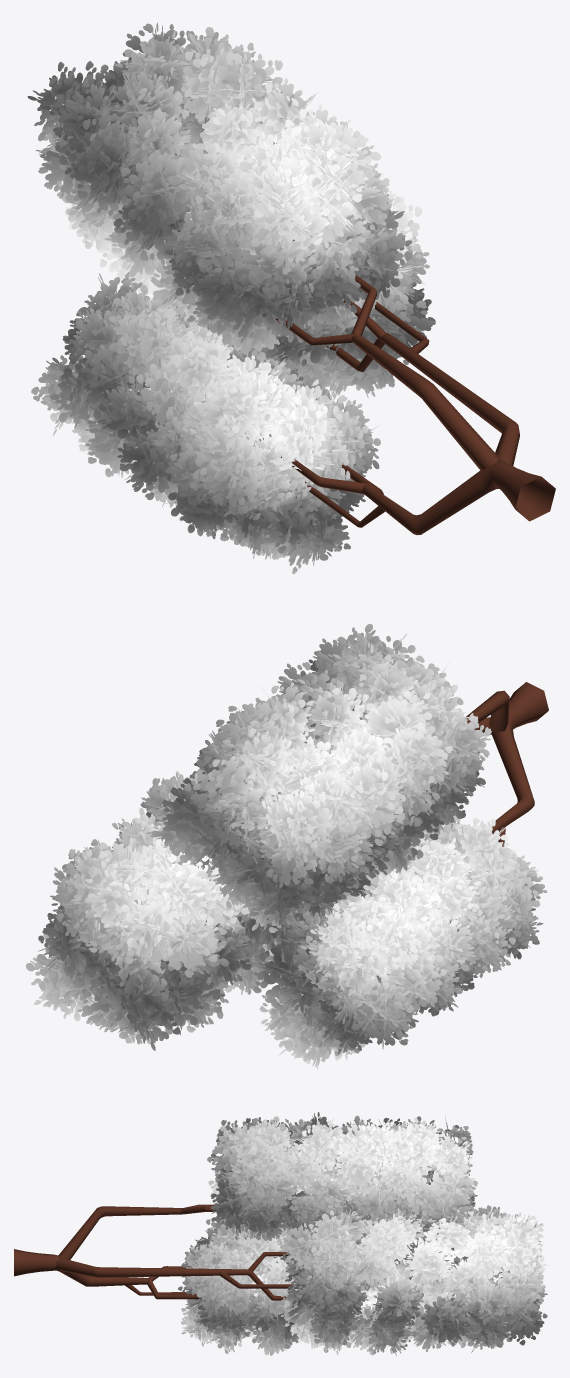
Rendered from StylisedTree5.fbx.
3 renders of one model, top to bottom at view 1: azimuth 30°, elevation 25°; view 2: azimuth 150°, elevation 25°; view 3: azimuth 270°, elevation 25°, orthographic. The views are drawn at different scales.
Visible parts, largest first — view 1: Leaf2Plane.001; view 2: Leaf2Plane.001; view 3: Leaf2Plane.001.
Boxes of the visible parts, x1,y1,x2,y2 form: Leaf2Plane.001: [27, 22, 555, 574]; Leaf2Plane.001: [26, 624, 548, 1069]; Leaf2Plane.001: [14, 1112, 547, 1355].
Size of the model in its own units: 637 by 716 by 1351.
